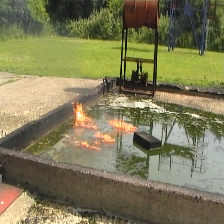fire_h: (72, 100, 97, 129), (63, 133, 100, 150), (108, 118, 136, 132)
fire_l: (93, 131, 115, 144)
